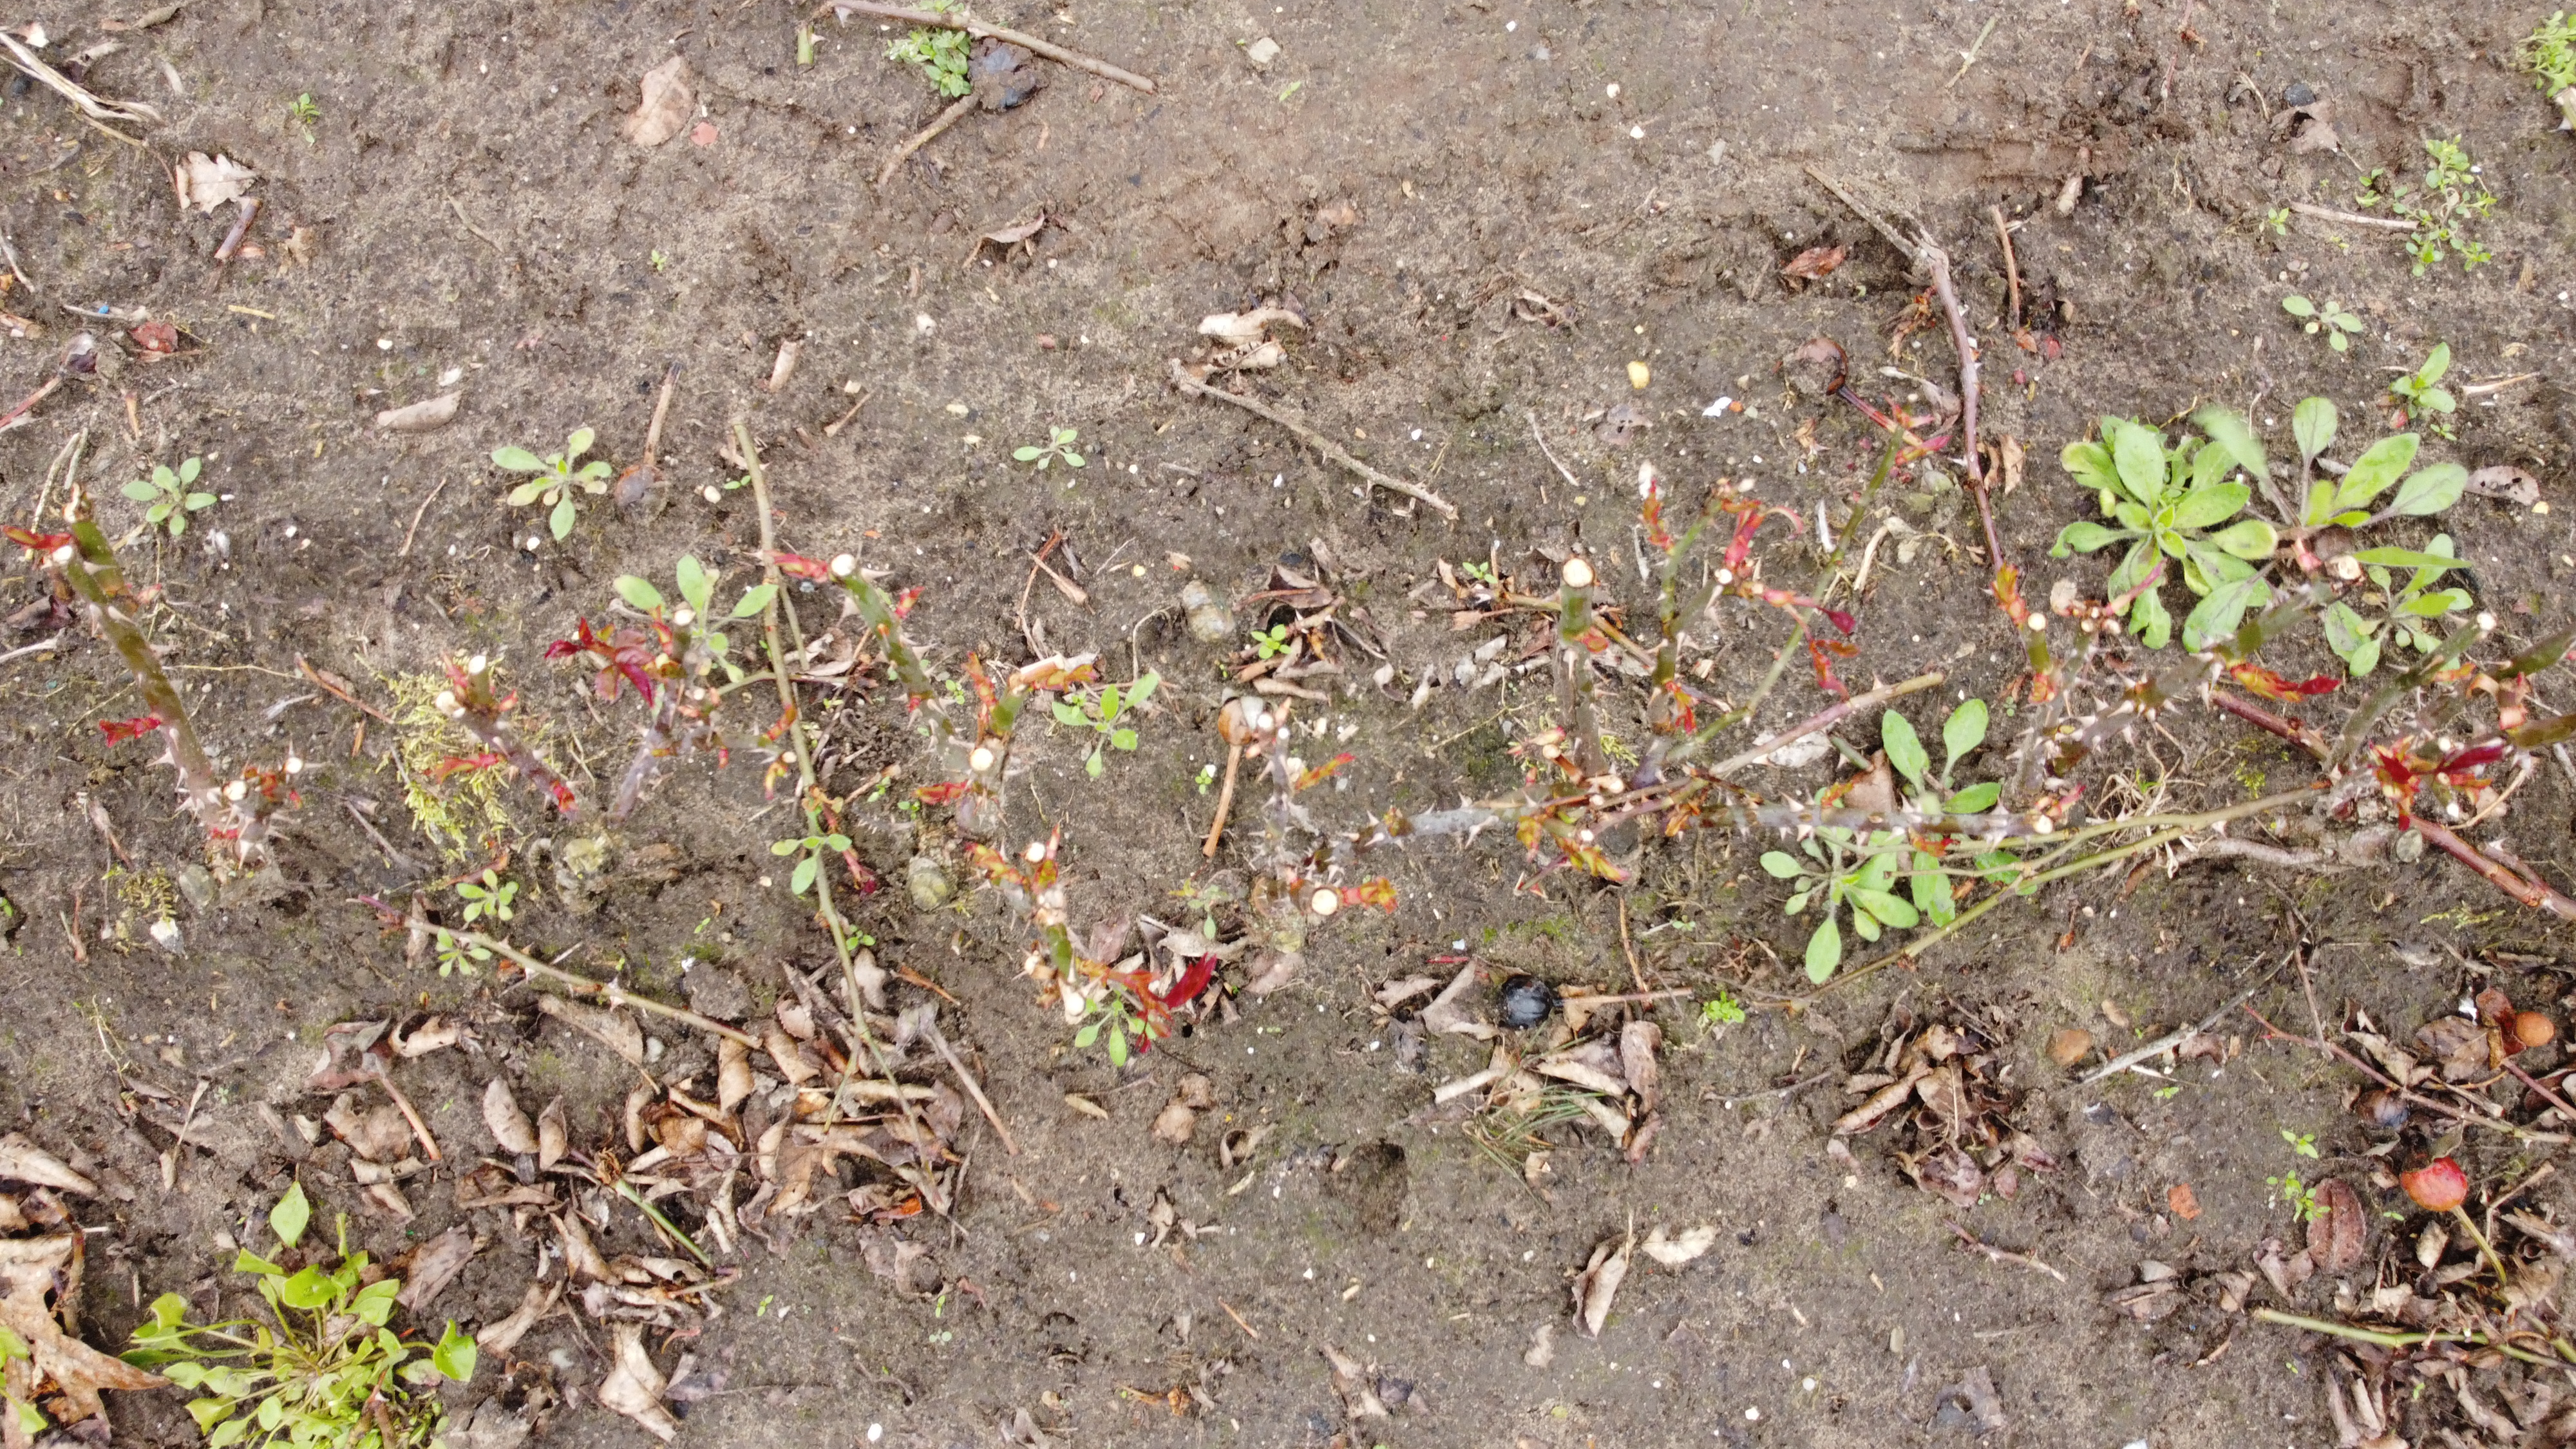rose: (1499, 502, 2059, 938), (835, 568, 1104, 1019), (12, 506, 280, 870), (414, 628, 718, 911), (2321, 623, 2576, 814), (2010, 605, 2215, 805), (1247, 761, 1408, 950), (1937, 702, 1989, 761), (1812, 922, 1840, 975), (1969, 853, 2010, 881), (2089, 706, 2128, 734), (628, 849, 676, 870), (1430, 812, 1486, 830), (306, 669, 343, 695), (435, 833, 464, 853), (738, 593, 759, 616), (343, 695, 372, 711), (416, 800, 439, 817), (688, 582, 711, 600), (584, 695, 600, 718), (662, 637, 688, 649), (260, 876, 278, 890), (414, 741, 433, 752), (1815, 674, 1838, 679), (575, 679, 582, 694), (487, 810, 497, 819), (1794, 897, 1801, 909), (1831, 683, 1844, 690), (655, 870, 665, 878), (600, 725, 612, 731), (586, 773, 594, 780), (1951, 855, 1962, 860), (1812, 741, 1819, 748), (442, 819, 451, 824), (1812, 842, 1821, 847), (453, 826, 460, 832), (575, 736, 580, 743), (706, 617, 713, 623), (1652, 502, 1658, 510), (1953, 867, 1962, 870), (706, 628, 713, 632), (725, 617, 732, 621), (2035, 743, 2042, 747), (416, 793, 421, 796), (444, 743, 449, 747), (568, 729, 571, 734), (375, 713, 380, 717), (706, 663, 711, 667), (708, 640, 713, 644), (648, 594, 653, 598), (2277, 617, 2282, 621), (435, 793, 439, 796), (586, 766, 589, 770), (577, 759, 580, 763), (2056, 800, 2059, 803), (2077, 732, 2084, 734), (2256, 630, 2263, 632), (1654, 517, 1658, 520), (485, 800, 490, 801), (577, 747, 579, 750), (306, 663, 308, 667), (697, 600, 701, 602), (1865, 794, 1868, 796), (1875, 777, 1879, 778), (495, 805, 497, 807), (568, 722, 570, 724), (387, 720, 389, 722), (708, 607, 709, 609), (2330, 805, 2332, 807), (2240, 642, 2242, 642), (2036, 642, 2038, 642)
weed: (2056, 398, 2461, 651), (131, 1249, 476, 1449), (1764, 826, 1955, 980), (1828, 702, 1999, 817), (400, 701, 513, 862), (616, 564, 768, 658), (2397, 140, 2493, 274), (495, 430, 609, 538), (1053, 674, 1157, 775), (1079, 971, 1168, 1063), (124, 458, 216, 534), (2388, 343, 2454, 428), (888, 30, 968, 96), (2525, 12, 2576, 99), (2323, 605, 2390, 671), (2281, 295, 2360, 350), (456, 872, 517, 924), (1017, 428, 1083, 469), (2374, 550, 2452, 577), (274, 1189, 308, 1242), (2396, 593, 2456, 621), (439, 939, 485, 975), (775, 835, 847, 855), (1704, 996, 1744, 1023), (1253, 628, 1288, 658), (1973, 855, 2012, 881), (793, 856, 812, 893), (2337, 556, 2358, 580), (2399, 630, 2420, 639), (395, 681, 400, 688), (2385, 612, 2396, 616), (2417, 640, 2424, 644), (2426, 577, 2431, 580), (2438, 550, 2443, 554), (2417, 586, 2422, 587), (2427, 646, 2431, 648), (2408, 625, 2411, 626), (2456, 596, 2459, 598), (2369, 556, 2371, 557), (2399, 552, 2401, 554)
